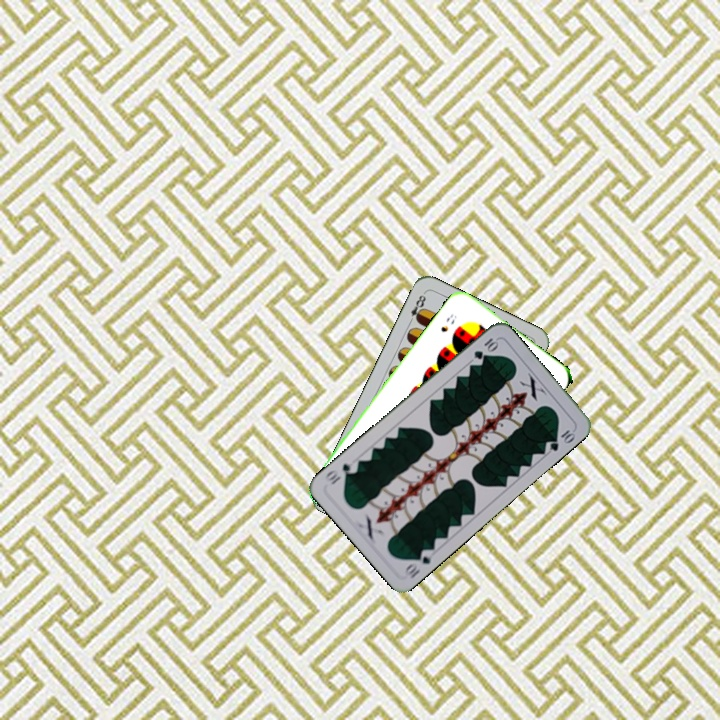E8: (404, 289, 428, 327)
G10: (401, 545, 437, 581), (470, 334, 501, 362)
S8: (436, 310, 459, 335)
